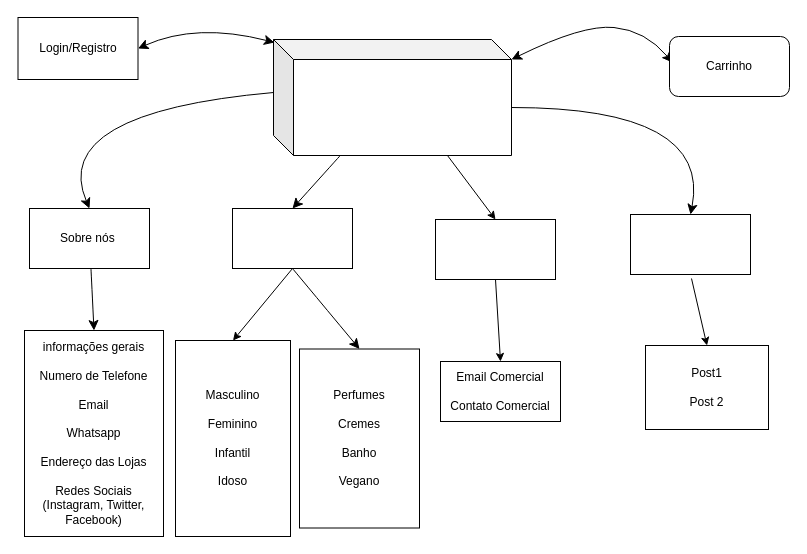
The diagram is 807 pixels wide and 554 high, and some of its shapes have lost their labels. The box of each missing label's shape, as (x1, y1, x2, y2) in pixels:
Blog: (630, 214, 750, 274)
Catalogo: (232, 208, 352, 268)
HOMEPAGE: (272, 38, 512, 156)
Trabalhe conosco: (434, 218, 556, 280)
